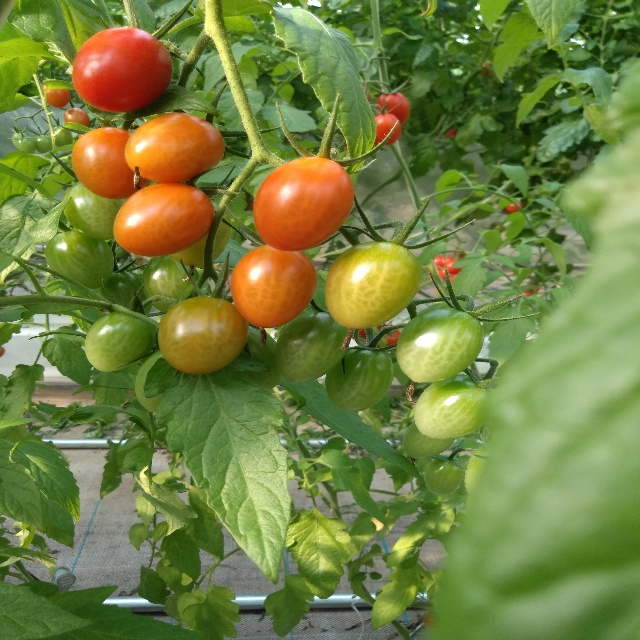l_fully_ripened: (72, 27, 173, 113), (375, 92, 410, 126), (373, 112, 401, 146)
l_green: (397, 307, 483, 383), (413, 374, 495, 439), (275, 312, 348, 382), (83, 309, 156, 373), (325, 346, 393, 412), (168, 200, 232, 267), (45, 230, 115, 289), (224, 324, 281, 390), (63, 181, 127, 239), (142, 255, 200, 314), (134, 348, 166, 415), (402, 422, 457, 460), (424, 456, 465, 496), (53, 126, 74, 150), (33, 135, 54, 155), (18, 138, 35, 155), (12, 131, 28, 148)
l_half_ripened: (254, 157, 354, 252), (324, 241, 423, 329), (114, 181, 214, 257), (230, 244, 317, 328), (159, 296, 249, 376), (125, 112, 226, 182), (72, 127, 151, 199), (42, 82, 70, 108), (64, 107, 90, 127)
